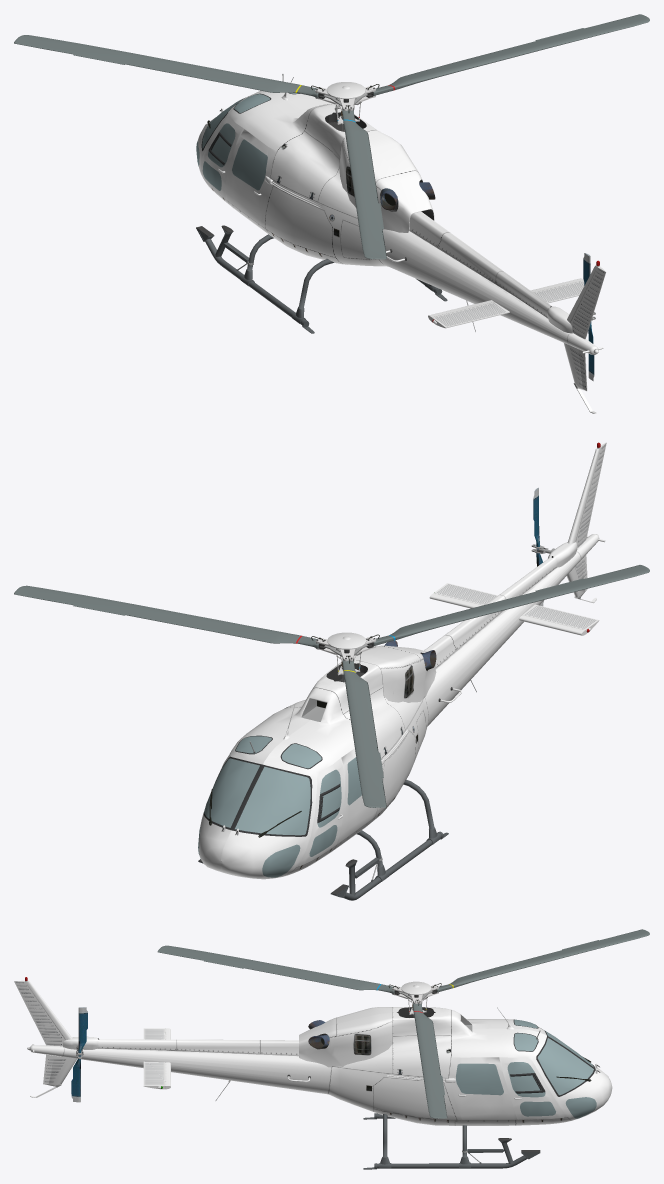
The model's file is helico.glb.
The picture shows the model from 3 angles, top to bottom: view 1: azimuth 30°, elevation 25°; view 2: azimuth 150°, elevation 25°; view 3: azimuth 270°, elevation 25°; orthographic projection. The views are drawn at different scales.
Visible parts, largest first — view 1: AS355GEN.003; view 2: AS355GEN.003; view 3: AS355GEN.003.
Part boxes in pixels (left/top/right/bottom): AS355GEN.003: left=14, top=14, right=649, bottom=413; AS355GEN.003: left=14, top=442, right=649, bottom=900; AS355GEN.003: left=14, top=929, right=649, bottom=1169.
Bounding box in the file's own units: 33.04 × 13.59 × 46.9.
Materials: 70 (67 with a texture image).
